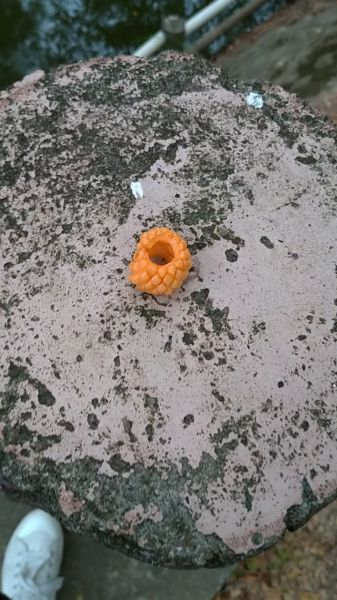eggs: (125, 216, 195, 306)
